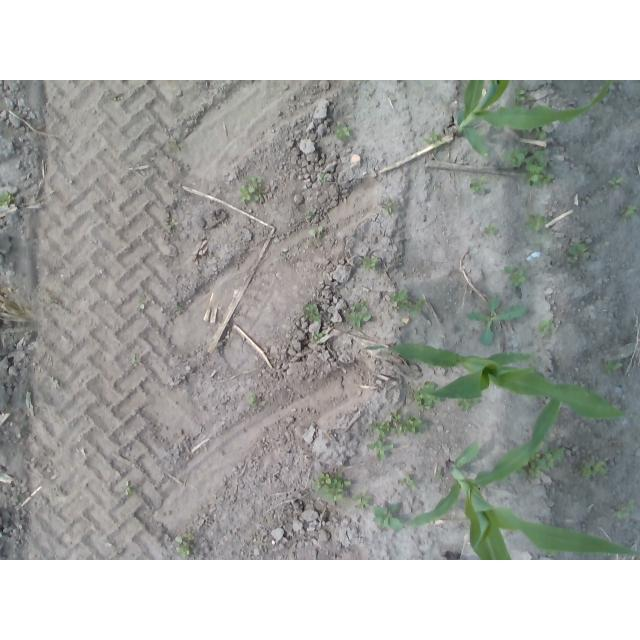Maize: (404, 396, 640, 560), (361, 341, 639, 423), (456, 80, 612, 156)
Weeds: (466, 297, 526, 343), (522, 150, 557, 188), (528, 447, 565, 478), (313, 473, 351, 503), (414, 382, 442, 411), (372, 503, 403, 529), (238, 175, 265, 203), (346, 302, 371, 329), (503, 265, 529, 288), (501, 147, 527, 169), (173, 532, 195, 558), (579, 459, 607, 479), (398, 416, 427, 435), (366, 441, 394, 460), (565, 243, 588, 266), (524, 212, 549, 233), (369, 420, 396, 438), (389, 289, 411, 311), (425, 129, 443, 153), (521, 127, 548, 142), (468, 174, 489, 192), (352, 492, 371, 511), (538, 317, 558, 335), (301, 303, 320, 321), (397, 475, 417, 492), (511, 87, 529, 105), (336, 124, 353, 142), (602, 361, 622, 376), (458, 397, 479, 411), (380, 197, 396, 215), (618, 502, 635, 518), (410, 299, 426, 314), (0, 190, 14, 207), (620, 203, 636, 217), (609, 176, 624, 189), (363, 257, 378, 270), (135, 293, 146, 310), (309, 226, 324, 237), (249, 394, 261, 406), (391, 412, 404, 423), (485, 224, 499, 234), (125, 485, 136, 497), (312, 331, 325, 341), (512, 465, 525, 475), (316, 172, 332, 180), (49, 377, 59, 388), (167, 220, 179, 229), (130, 352, 138, 364), (305, 210, 315, 219), (434, 468, 442, 479), (173, 305, 183, 312)
